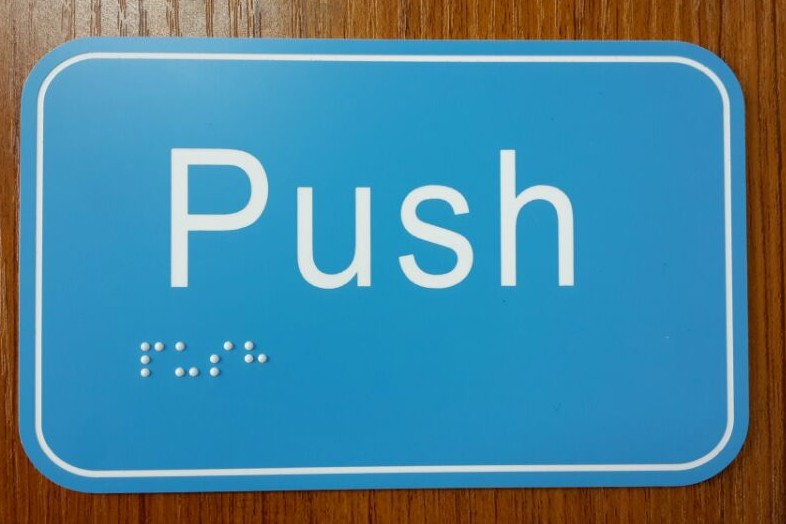Braille: (243, 340, 269, 380), (173, 341, 200, 379), (140, 341, 166, 379), (209, 340, 234, 378)
